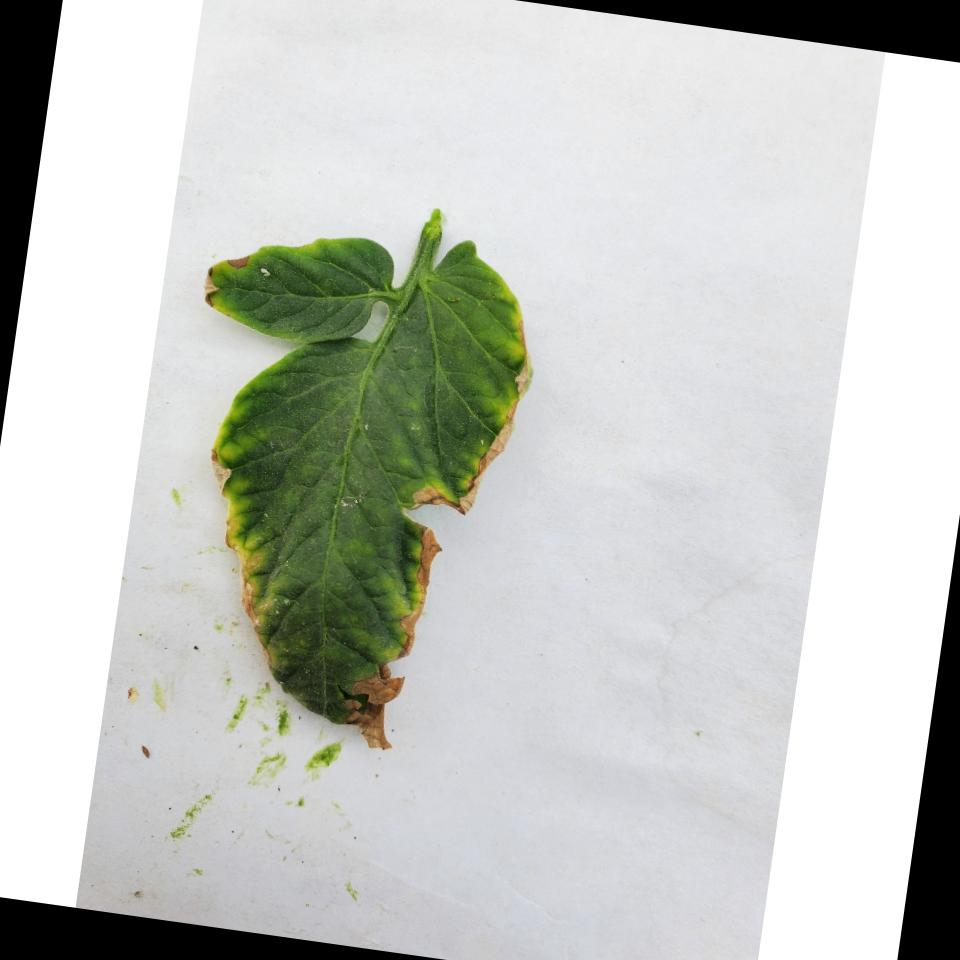tomato_bacterial_blight: (213, 222, 540, 772)
